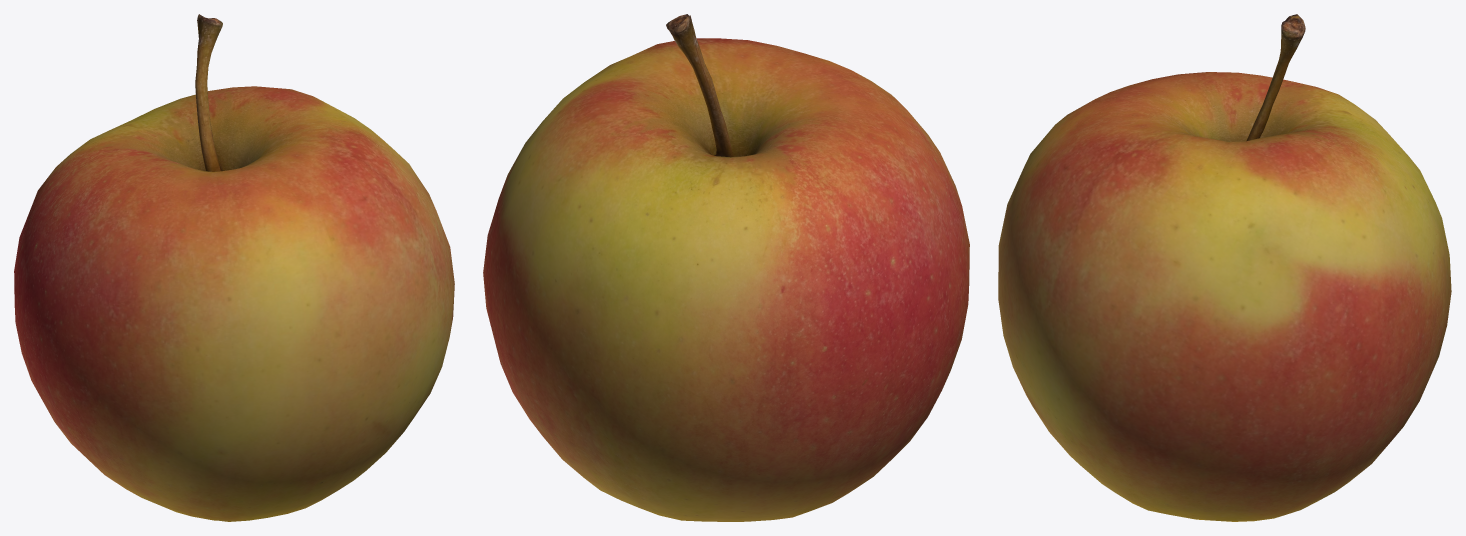
File: apple.glb
The picture shows the model from 3 angles, left to right: view 1: azimuth 30°, elevation 25°; view 2: azimuth 150°, elevation 25°; view 3: azimuth 270°, elevation 25°; orthographic projection. The views are drawn at different scales.
Parts seen in each view (by area): view 1: Apple; view 2: Apple; view 3: Apple.
Boxes of the visible parts, x1,y1,x2,y2 form: Apple: (14, 14, 454, 521); Apple: (483, 14, 969, 521); Apple: (998, 14, 1451, 521).
Bounding box in the file's own units: 0.0711 × 0.0812 × 0.0705.
1 material, 1 textured.
